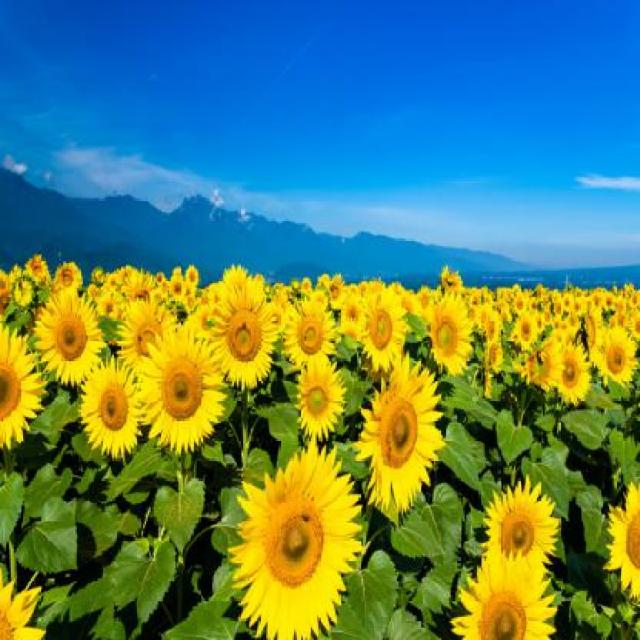sunflower: (226, 447, 380, 639), (354, 358, 452, 528), (129, 313, 228, 475), (208, 276, 284, 387), (356, 278, 404, 370)
